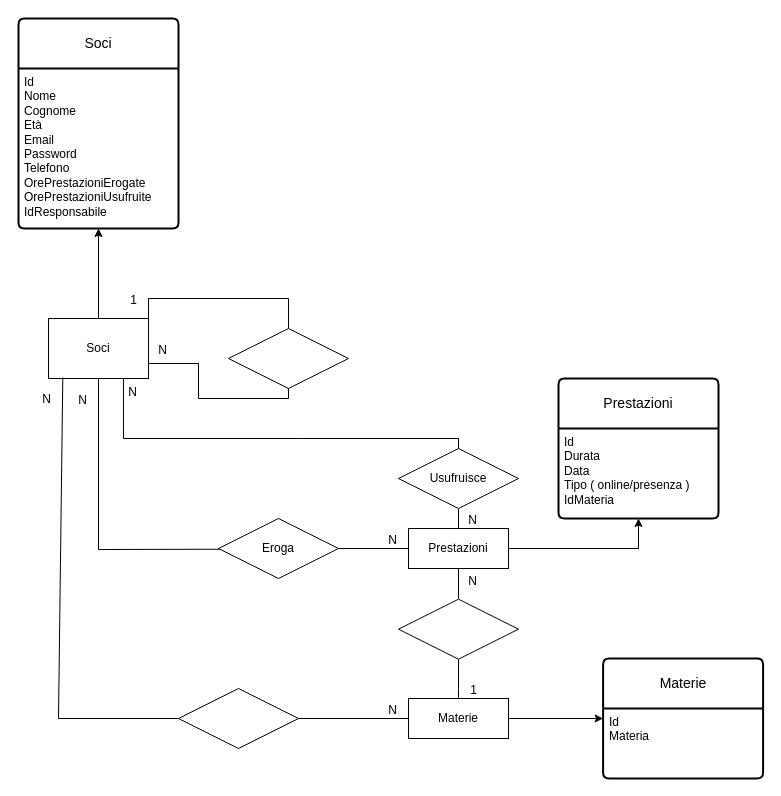
Image size: 781x796. Some labels were removed from this diagram. Here are the shapes that lost their labels. From the top down, the centre of each, then its label:
the point at 288,358: Responsabile
the point at 458,628: Riguarda
the point at 238,718: Insegna
